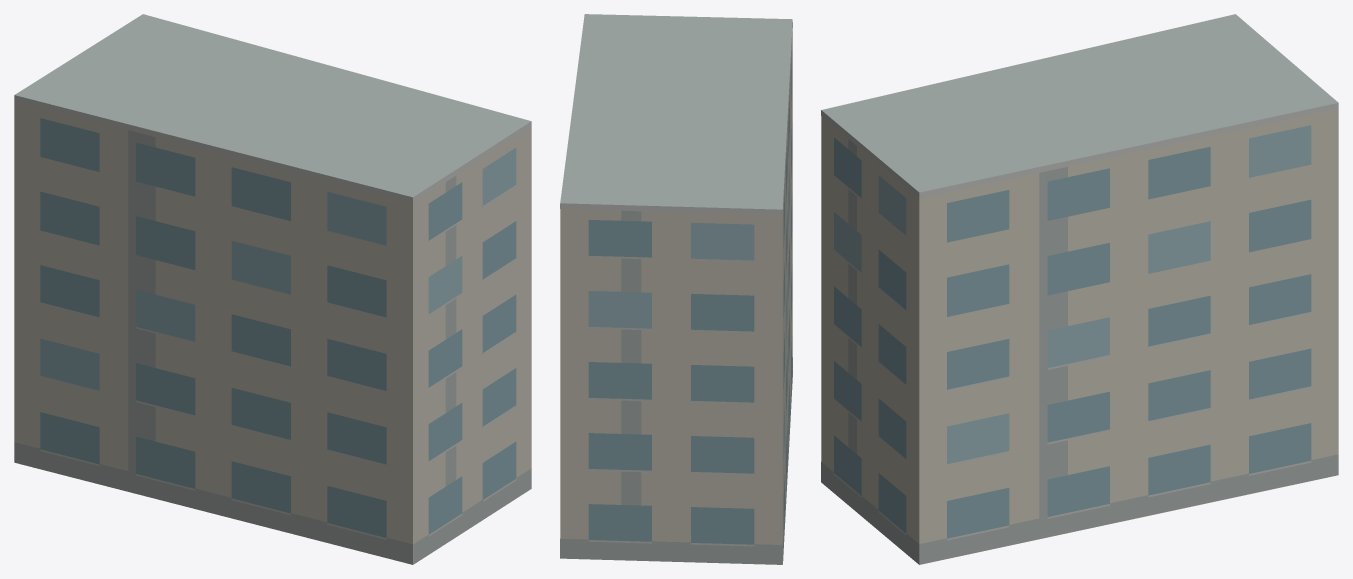
Rendered from survey-upis-32990773.glb.
3 renders of one model, left to right at view 1: azimuth 30°, elevation 25°; view 2: azimuth 150°, elevation 25°; view 3: azimuth 270°, elevation 25°, orthographic. The views are drawn at different scales.
Visible parts, largest first — view 1: survey-upis-32990773.tmp; view 2: survey-upis-32990773.tmp; view 3: survey-upis-32990773.tmp.
Boxes of the visible parts, x1,y1,x2,y2 form: survey-upis-32990773.tmp: (14,14,531,564); survey-upis-32990773.tmp: (560,14,792,564); survey-upis-32990773.tmp: (821,14,1338,564).
Size of the model in its own units: 15.69 by 15.25 by 19.22.
